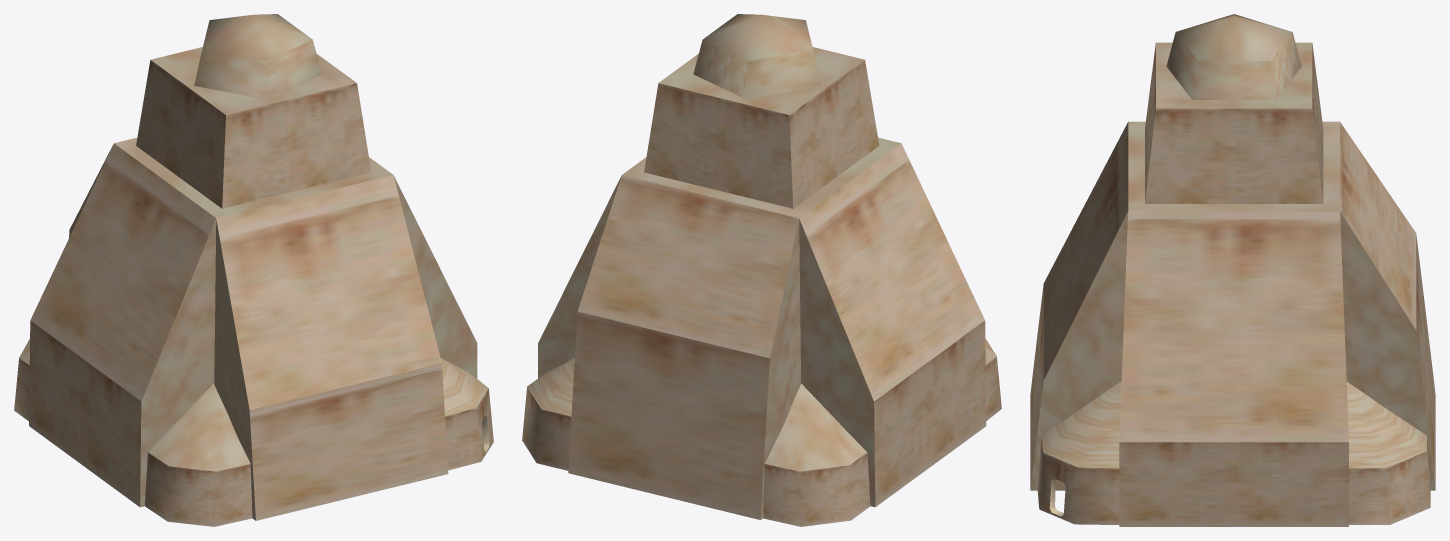
The model's file is thm_tato_imprv_building_s04_r0_mesh_l3.fbx.
3 views of the same model, side by side, from view 1: azimuth 30°, elevation 25°; view 2: azimuth 150°, elevation 25°; view 3: azimuth 270°, elevation 25° (orthographic). The views are drawn at different scales.
Parts seen in each view (by area): view 1: mesh_node; view 2: mesh_node; view 3: mesh_node.
Boxes of the visible parts, bbox=[...] form: mesh_node: bbox=[14, 14, 493, 526]; mesh_node: bbox=[522, 14, 1001, 526]; mesh_node: bbox=[1030, 14, 1435, 526].
Size of the model in its own units: 34.62 by 40.29 by 34.79.
